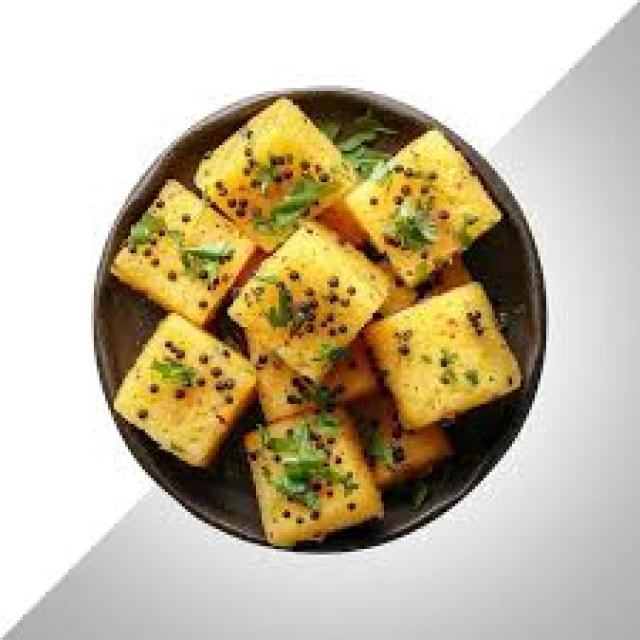DHOKLA: (94, 91, 543, 549), (230, 219, 387, 378), (350, 131, 498, 282), (364, 282, 518, 427), (119, 302, 253, 464)
